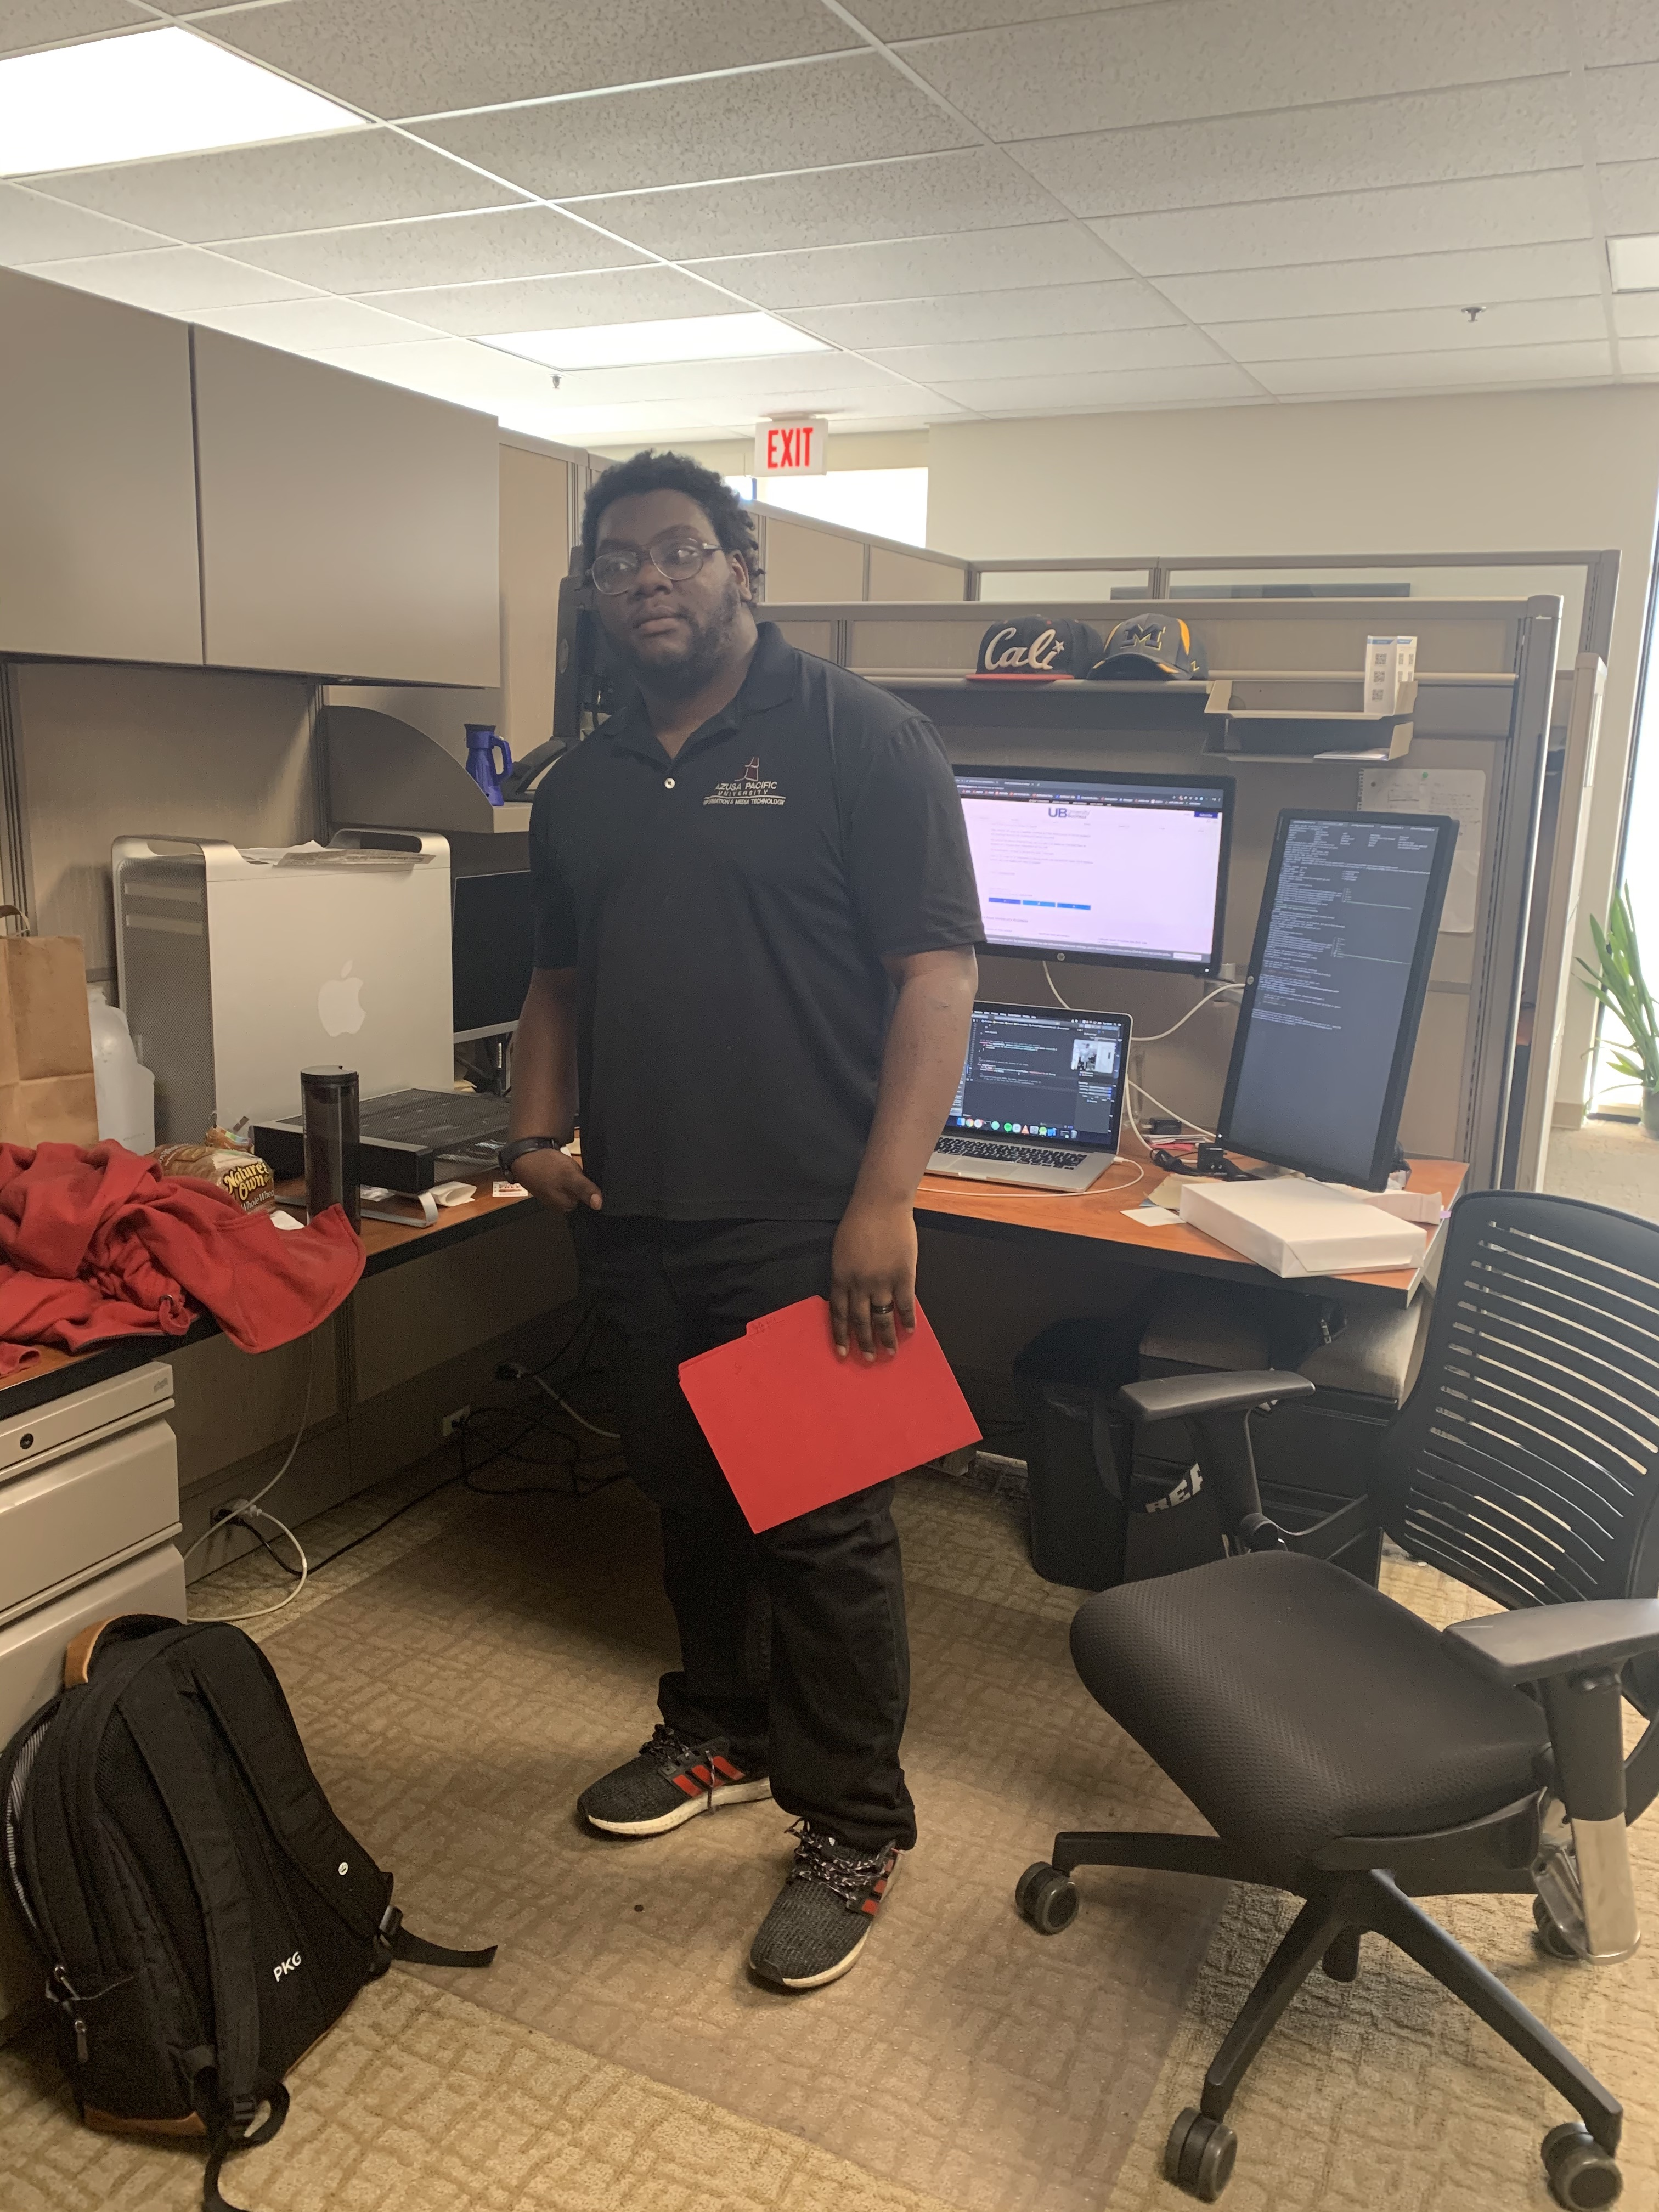red folder: (664, 1282, 1028, 1543)
